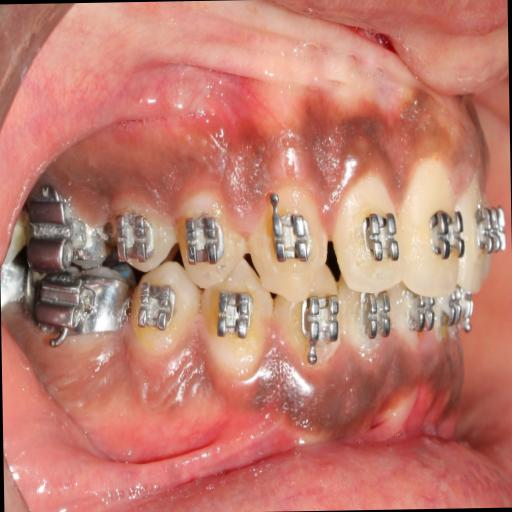correct_brace: (170, 190, 242, 288), (360, 202, 400, 271), (270, 208, 314, 269), (428, 200, 466, 260)
incorrect_brace: (335, 161, 402, 296), (182, 204, 225, 276)
